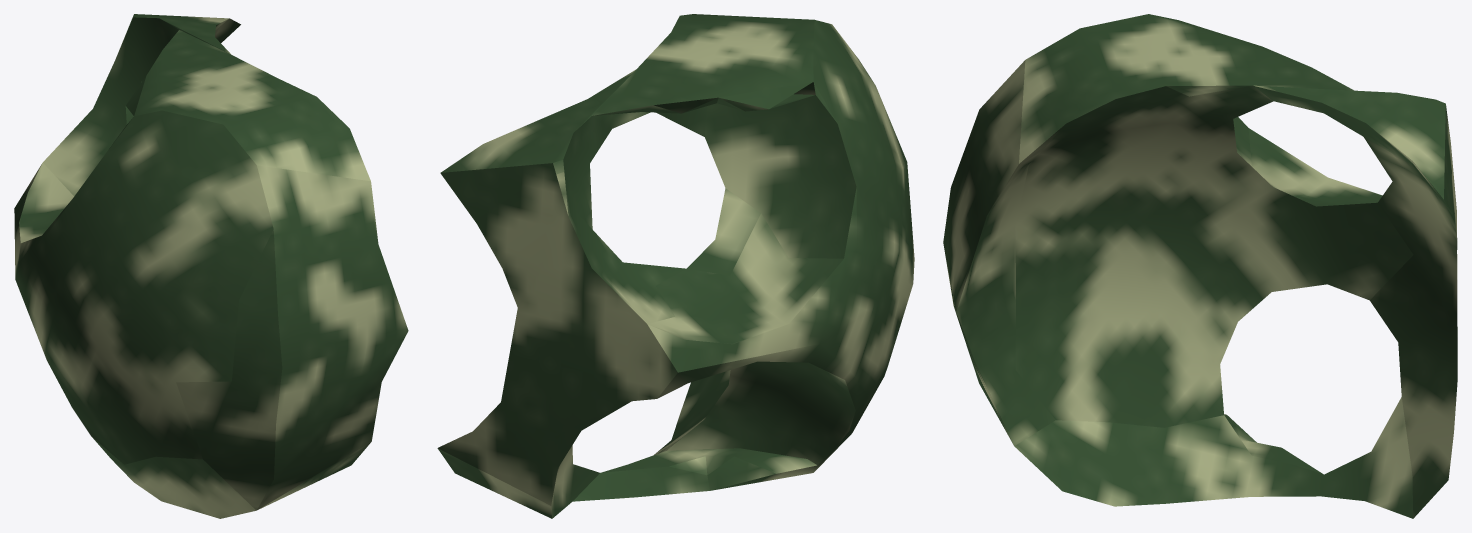
Rendered from link_body_15_composite.obj.
3 renders of one model, left to right at view 1: azimuth 30°, elevation 25°; view 2: azimuth 150°, elevation 25°; view 3: azimuth 270°, elevation 25°, orthographic. The views are drawn at different scales.
Size of the model in its own units: 8.76 by 11 by 11.86.
Materials: 1 (1 with a texture image).
